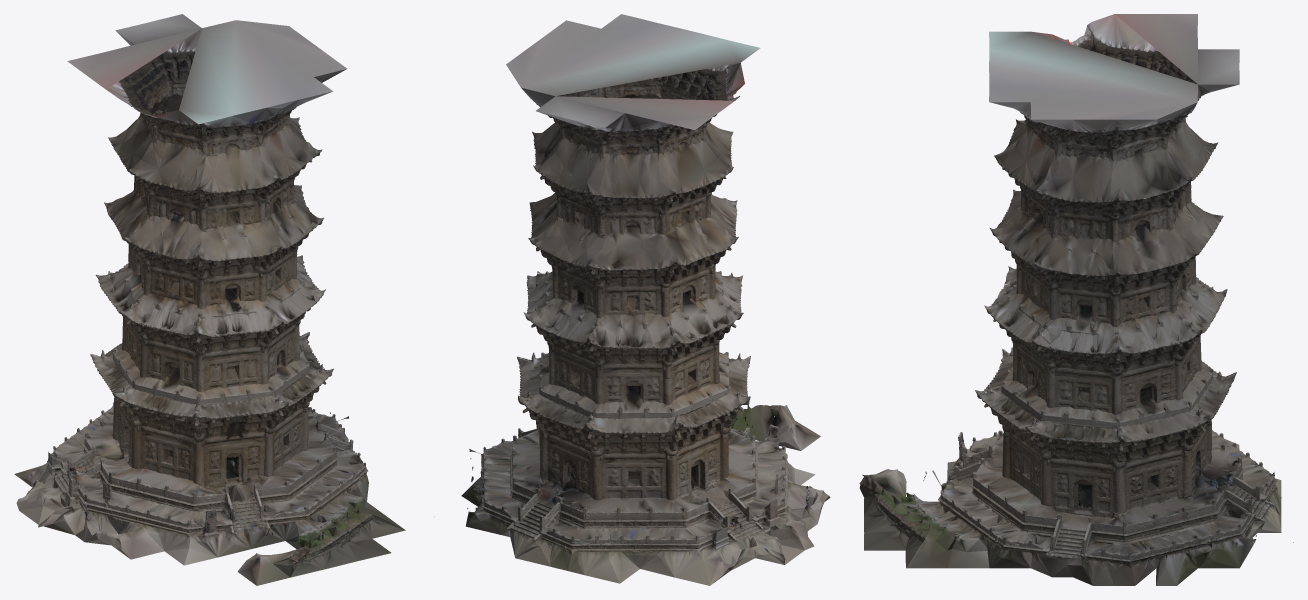
The model's file is wanshouta_f1.glb.
3 views of the same model, side by side, from view 1: azimuth 30°, elevation 25°; view 2: azimuth 150°, elevation 25°; view 3: azimuth 270°, elevation 25° (orthographic). The views are drawn at different scales.
Parts seen in each view (by area): view 1: Mesh_0_Part_0; view 2: Mesh_0_Part_0; view 3: Mesh_0_Part_0.
Part boxes in pixels (x1,y1,x2,y2): Mesh_0_Part_0: [14, 14, 405, 585]; Mesh_0_Part_0: [461, 14, 830, 585]; Mesh_0_Part_0: [859, 14, 1293, 585].
Bounding box in the file's own units: 29.72 × 36.88 × 32.37.
